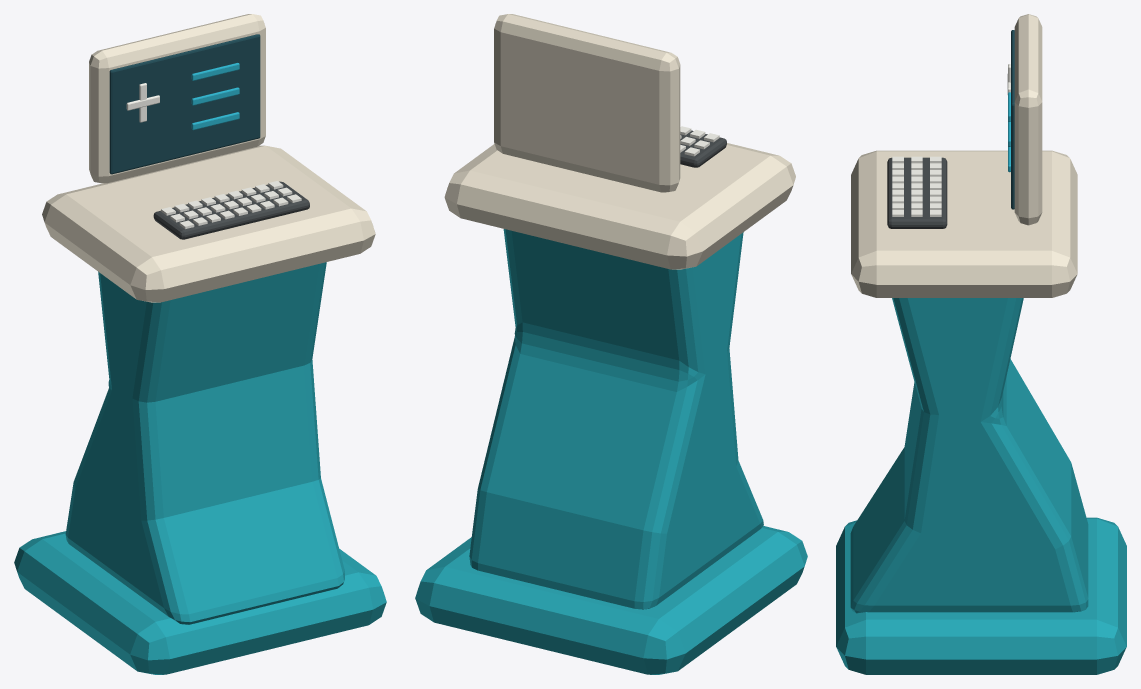
Rendered from workstation_advanced.glb.
3 renders of one model, left to right at view 1: azimuth 30°, elevation 25°; view 2: azimuth 150°, elevation 25°; view 3: azimuth 270°, elevation 25°, orthographic. The views are drawn at different scales.
Parts seen in each view (by area): view 1: STATIC_teal.010, STATIC_cream.008, STATIC_screen.006, STATIC_white.010, STATIC_rubber.012, STATIC_blue.004; view 2: STATIC_teal.010, STATIC_cream.008, STATIC_rubber.012, STATIC_white.010; view 3: STATIC_teal.010, STATIC_cream.008, STATIC_rubber.012, STATIC_white.010, STATIC_screen.006.
Part boxes in pixels (x1,y1,x2,y2): STATIC_teal.010: [14, 262, 386, 674]; STATIC_cream.008: [42, 14, 375, 302]; STATIC_screen.006: [109, 34, 260, 174]; STATIC_white.010: [126, 83, 301, 229]; STATIC_rubber.012: [153, 181, 309, 239]; STATIC_blue.004: [191, 62, 239, 130]; STATIC_teal.010: [415, 229, 807, 674]; STATIC_cream.008: [444, 14, 795, 269]; STATIC_rubber.012: [680, 130, 726, 167]; STATIC_white.010: [680, 126, 719, 156]; STATIC_teal.010: [836, 298, 1126, 674]; STATIC_cream.008: [851, 14, 1077, 297]; STATIC_rubber.012: [887, 157, 947, 228]; STATIC_white.010: [892, 64, 1010, 216]; STATIC_screen.006: [1011, 30, 1014, 209].
Bounding box in the file's own units: 0.7 × 1.47 × 0.68.
